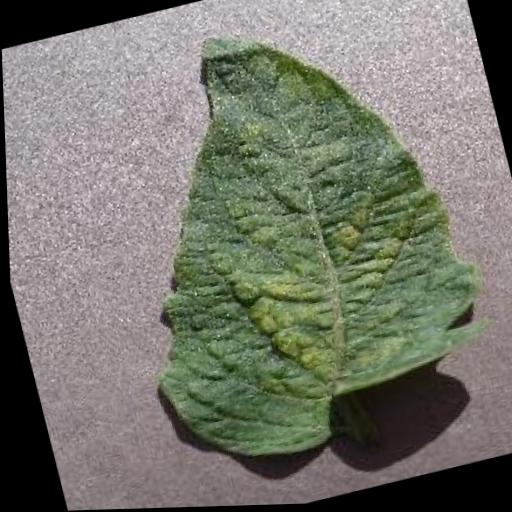Spider Mites: (76, 0, 505, 483)
